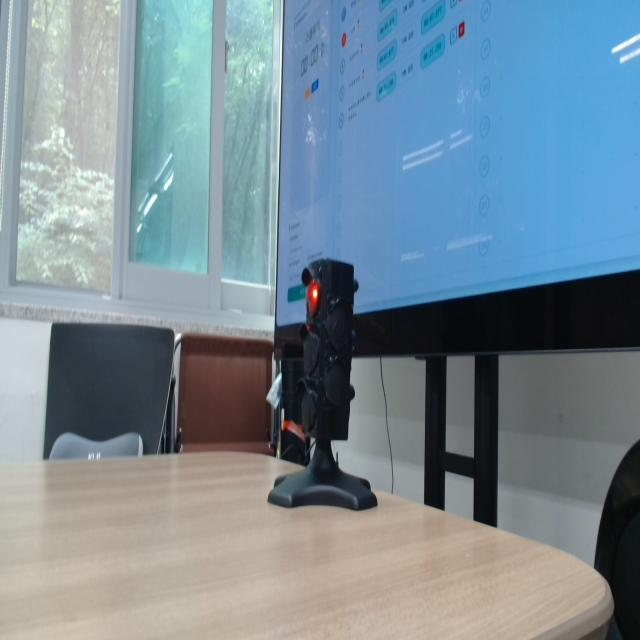red_light: (306, 280, 321, 316)
